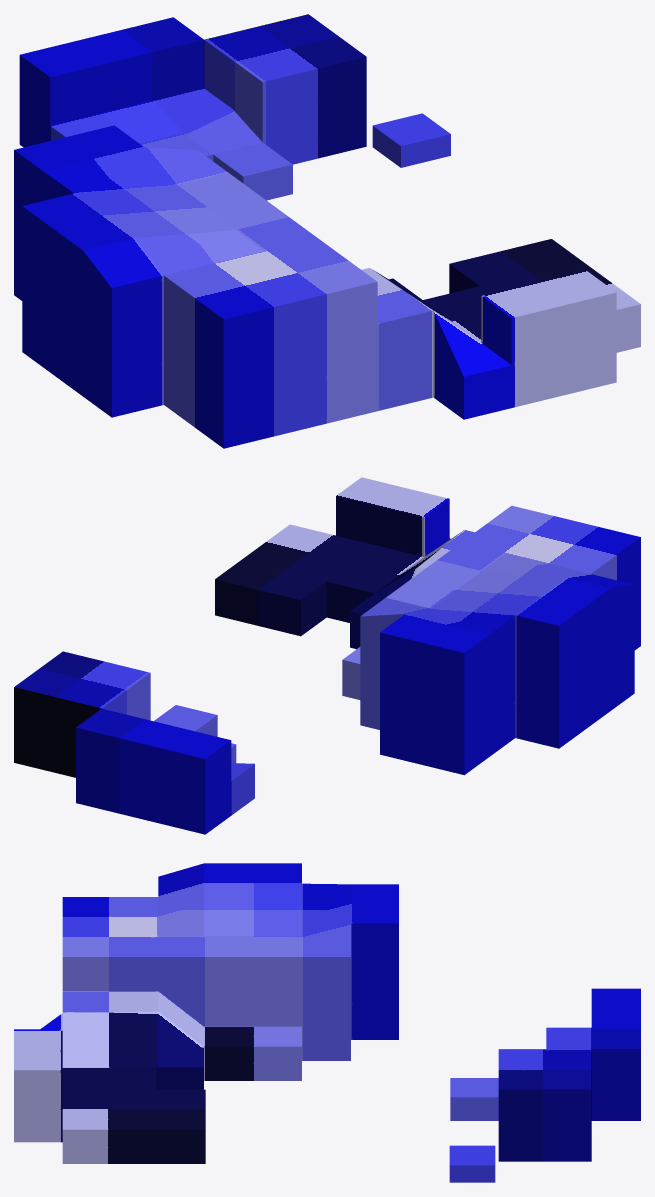
The model's file is broken_dish_546x04.gltf.
The picture shows the model from 3 angles, top to bottom: view 1: azimuth 30°, elevation 25°; view 2: azimuth 150°, elevation 25°; view 3: azimuth 270°, elevation 25°; orthographic projection. The views are drawn at different scales.
Parts seen in each view (by area): view 1: broken_dish_546x04; view 2: broken_dish_546x04; view 3: broken_dish_546x04.
Part boxes in pixels (box(x1,y1,x2,y2)): broken_dish_546x04: box(14, 14, 640, 448); broken_dish_546x04: box(14, 477, 640, 834); broken_dish_546x04: box(14, 863, 640, 1182).
Bounding box in the file's own units: 0.4651 × 0.1246 × 0.6051.
1 material, 1 textured.
